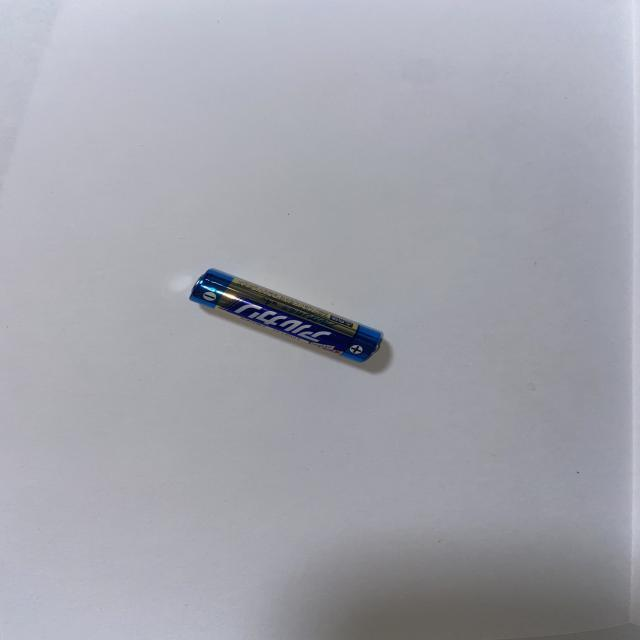Hazard: (182, 266, 386, 366)
